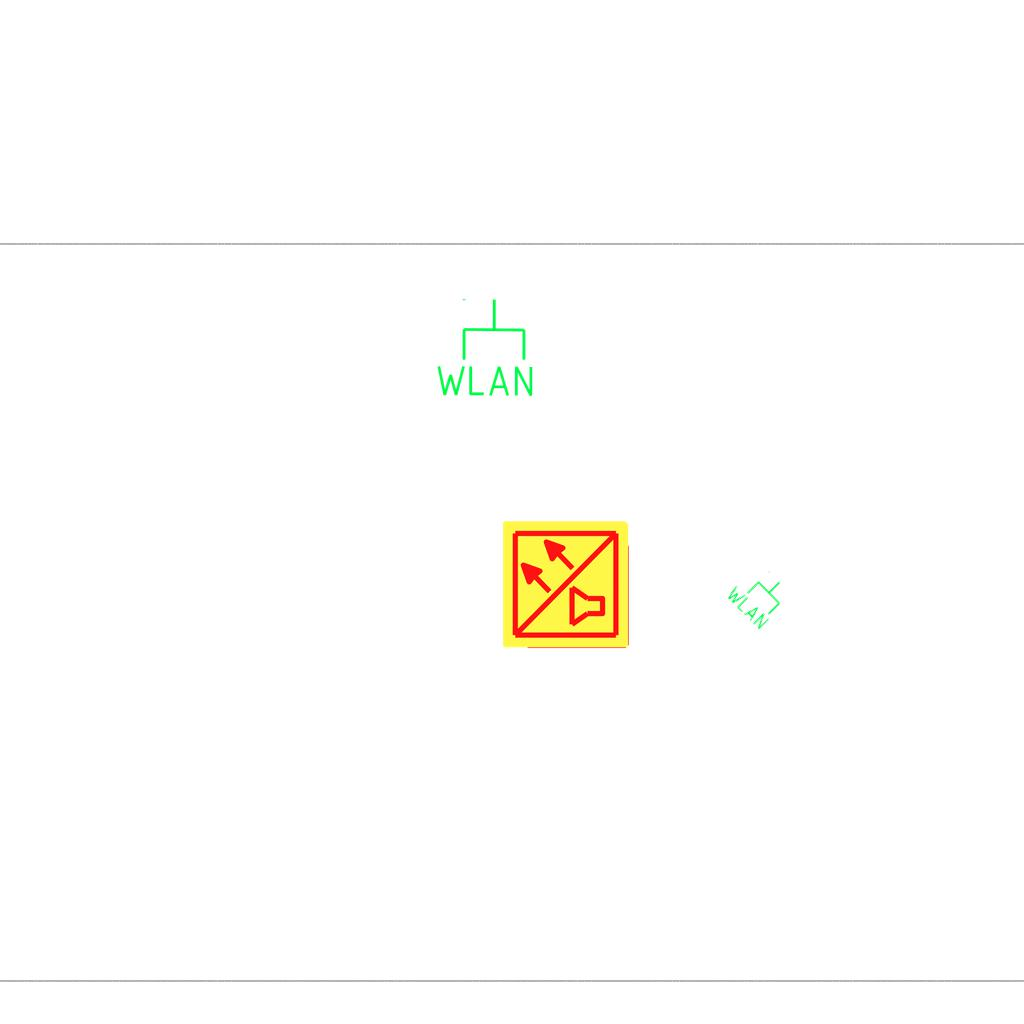OKW_Multisensormelder_(Kombination_optischer_Rauch-Kahlenmonoxid_Waerme-Melder): (500, 518, 632, 650)
WLAN: (432, 296, 537, 400), (722, 559, 796, 633)
